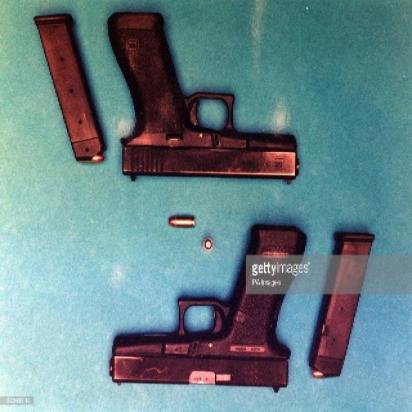Gun: (102, 7, 301, 191), (103, 221, 306, 392)
